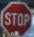Stop sign: (0, 0, 33, 36)
